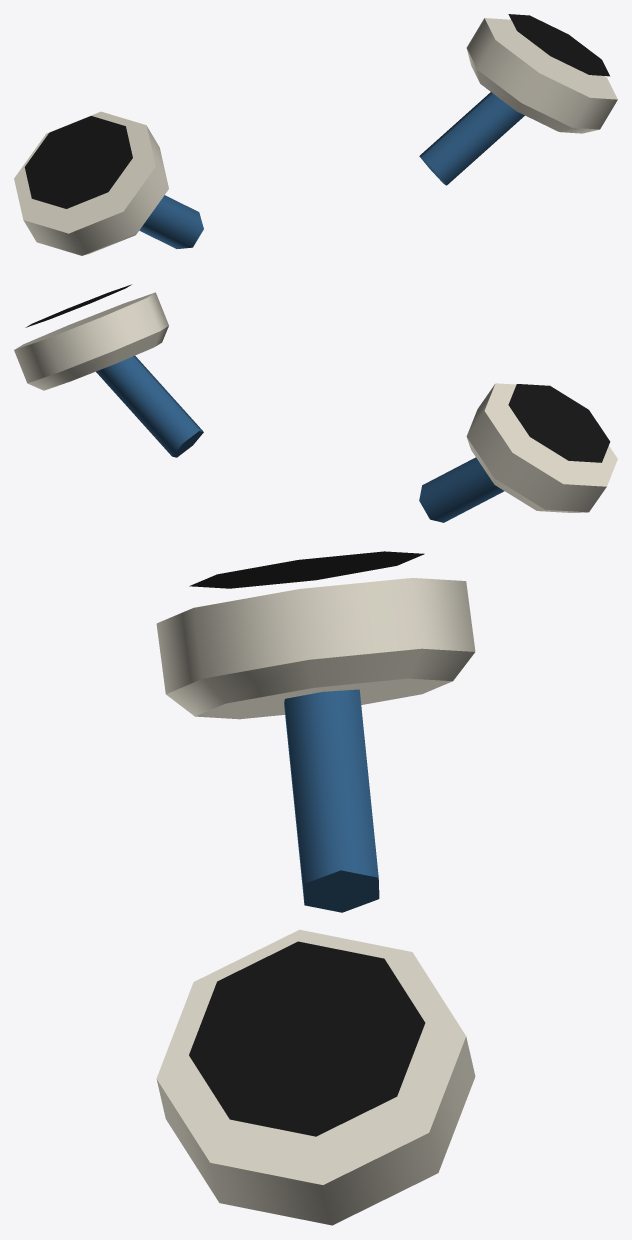
The model's file is rm2_thrusters_aft.obj.
3 views of the same model, one above another, from view 1: azimuth 30°, elevation 25°; view 2: azimuth 150°, elevation 25°; view 3: azimuth 270°, elevation 25° (orthographic). The views are drawn at different scales.
Parts seen in each view (by area): view 1: rm2_thrusters_aft; view 2: rm2_thrusters_aft; view 3: rm2_thrusters_aft.
Boxes of the visible parts, box(x1,y1,x2,y2) form: rm2_thrusters_aft: box(14, 14, 617, 255); rm2_thrusters_aft: box(14, 284, 617, 522); rm2_thrusters_aft: box(156, 551, 475, 1225).
Bounding box in the file's own units: 0.6196 × 0.1483 × 0.1467.
